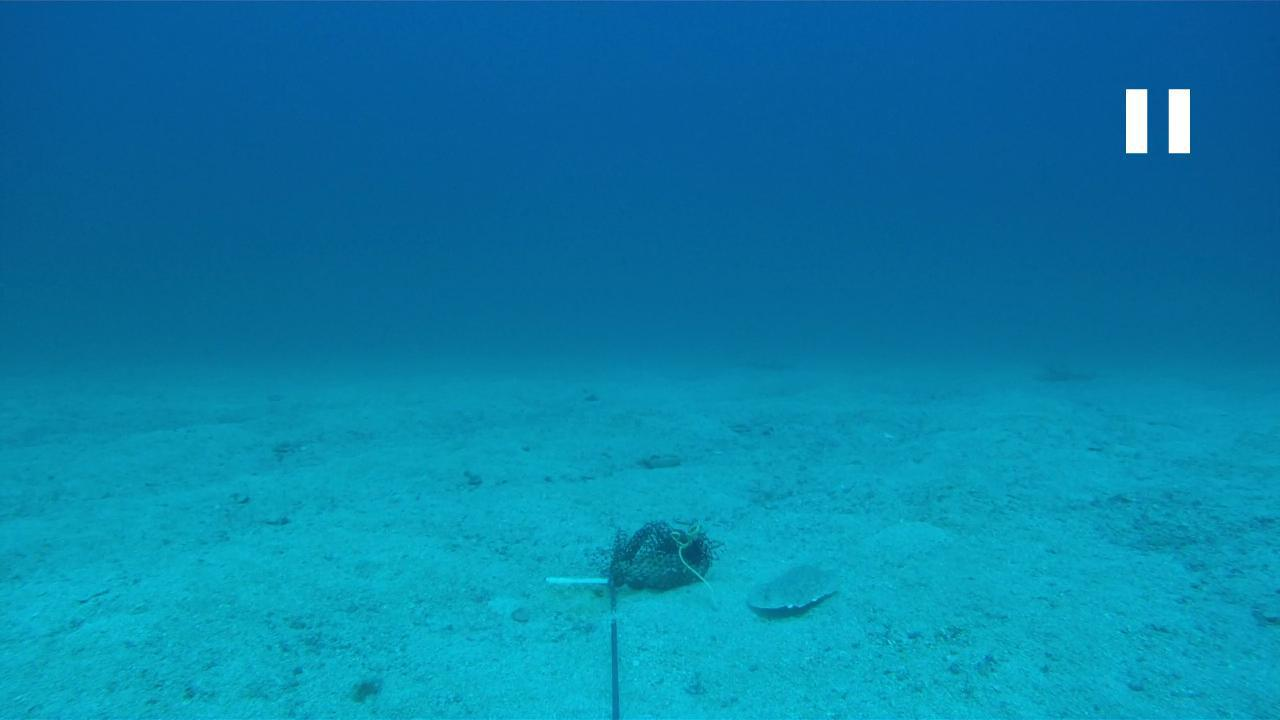bothus: (742, 558, 842, 619)
